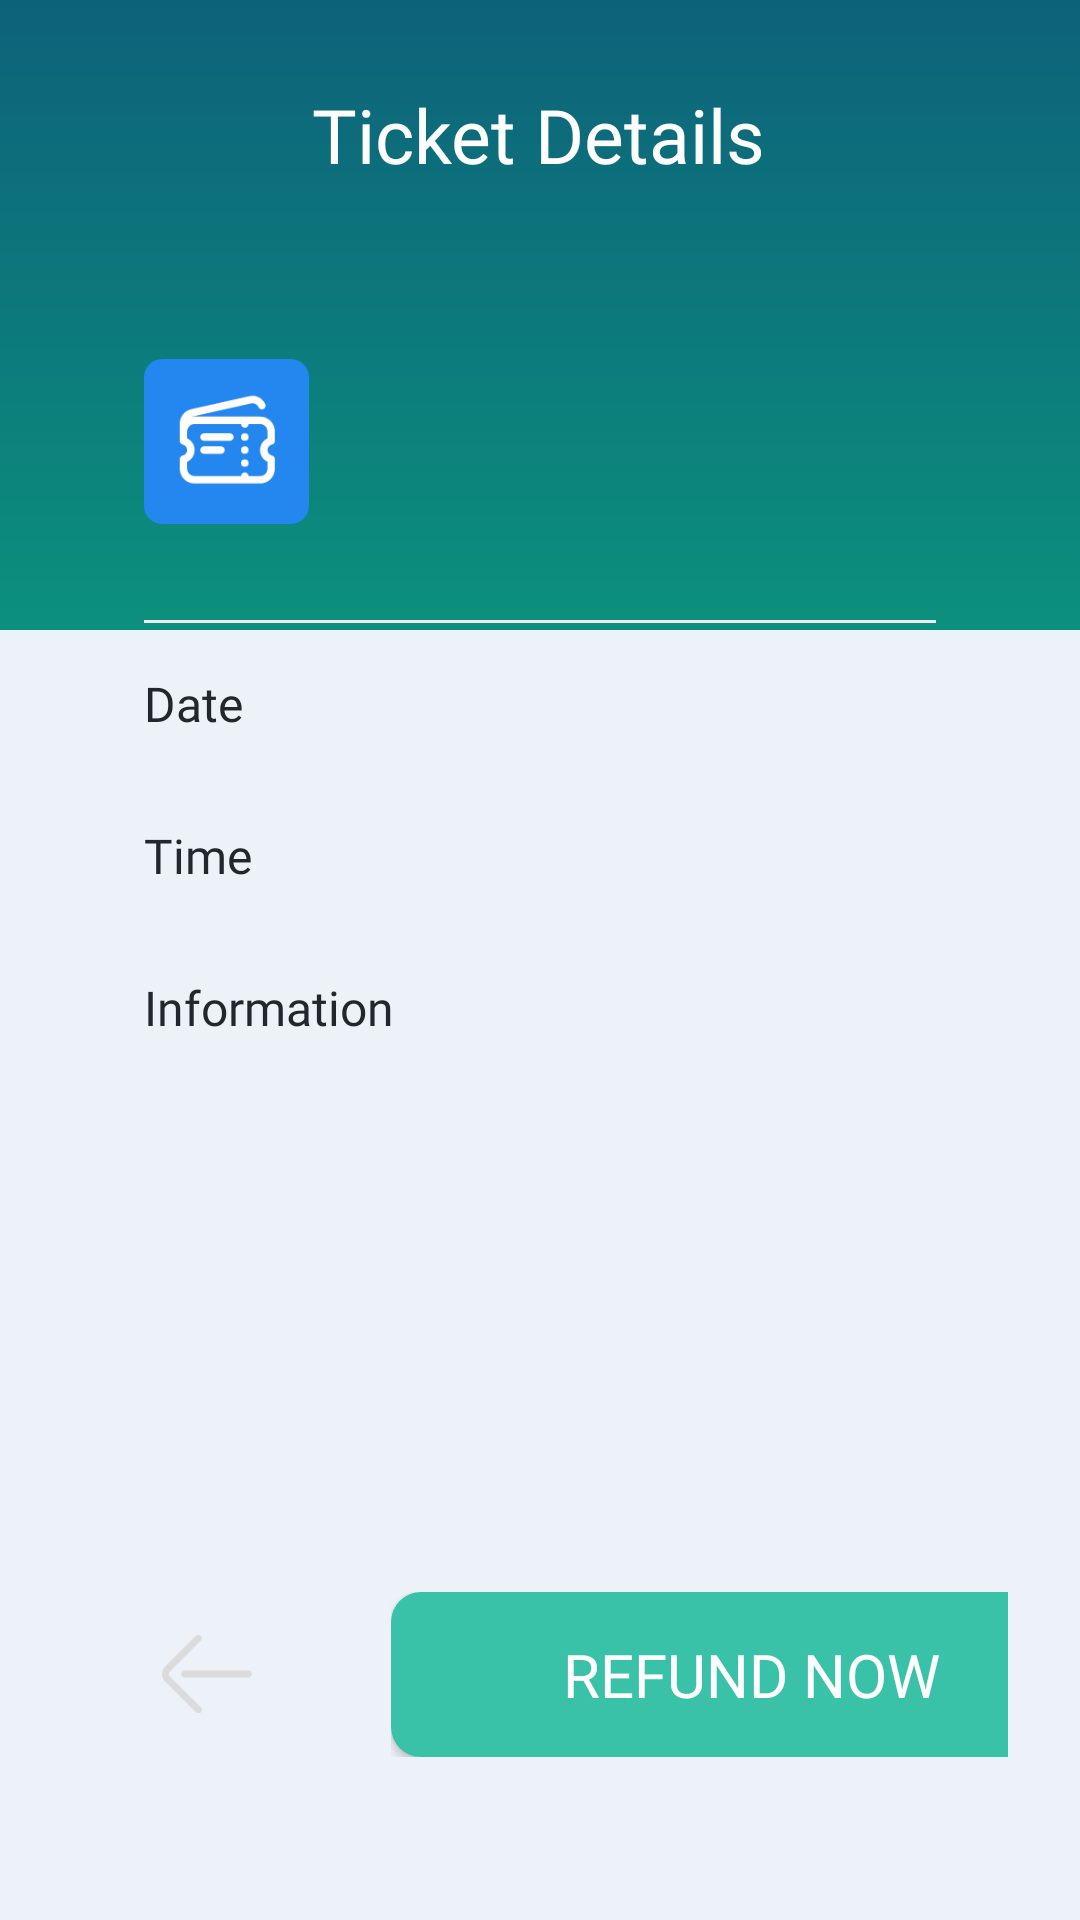

Point at icon controls on the screen. Image size 1080 × 1920, points as [x,y].
back: [206,1674]
ticket buy: [226,441]
